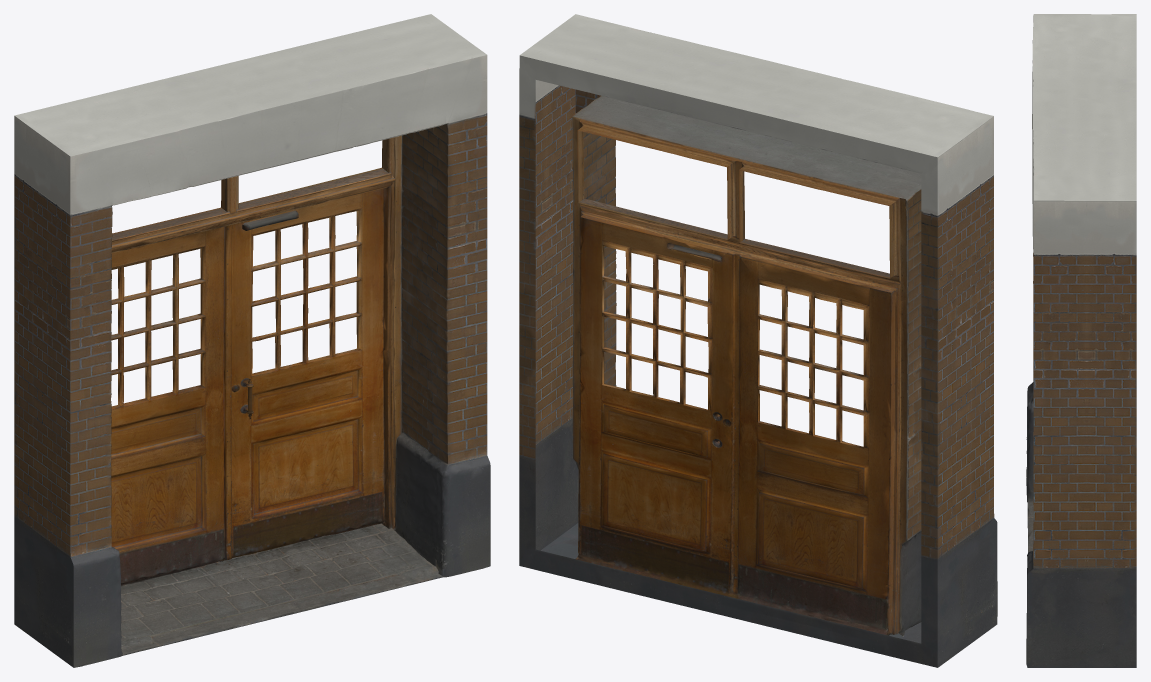
The model's file is modular_door_06.glb.
3 views of the same model, side by side, from view 1: azimuth 30°, elevation 25°; view 2: azimuth 150°, elevation 25°; view 3: azimuth 270°, elevation 25° (orthographic). The views are drawn at different scales.
Visible parts, largest first — view 1: Aset_building__M_ulxqedodw_LOD0; view 2: Aset_building__M_ulxqedodw_LOD0; view 3: Aset_building__M_ulxqedodw_LOD0.
Part boxes in pixels (x1=…): Aset_building__M_ulxqedodw_LOD0: x1=14, y1=14, x2=490, y2=667; Aset_building__M_ulxqedodw_LOD0: x1=519, y1=14, x2=997, y2=667; Aset_building__M_ulxqedodw_LOD0: x1=1026, y1=14, x2=1136, y2=667.
Bounding box in the file's own units: 3 × 3.5 × 0.7488.
Materials: 1 (1 with a texture image).
